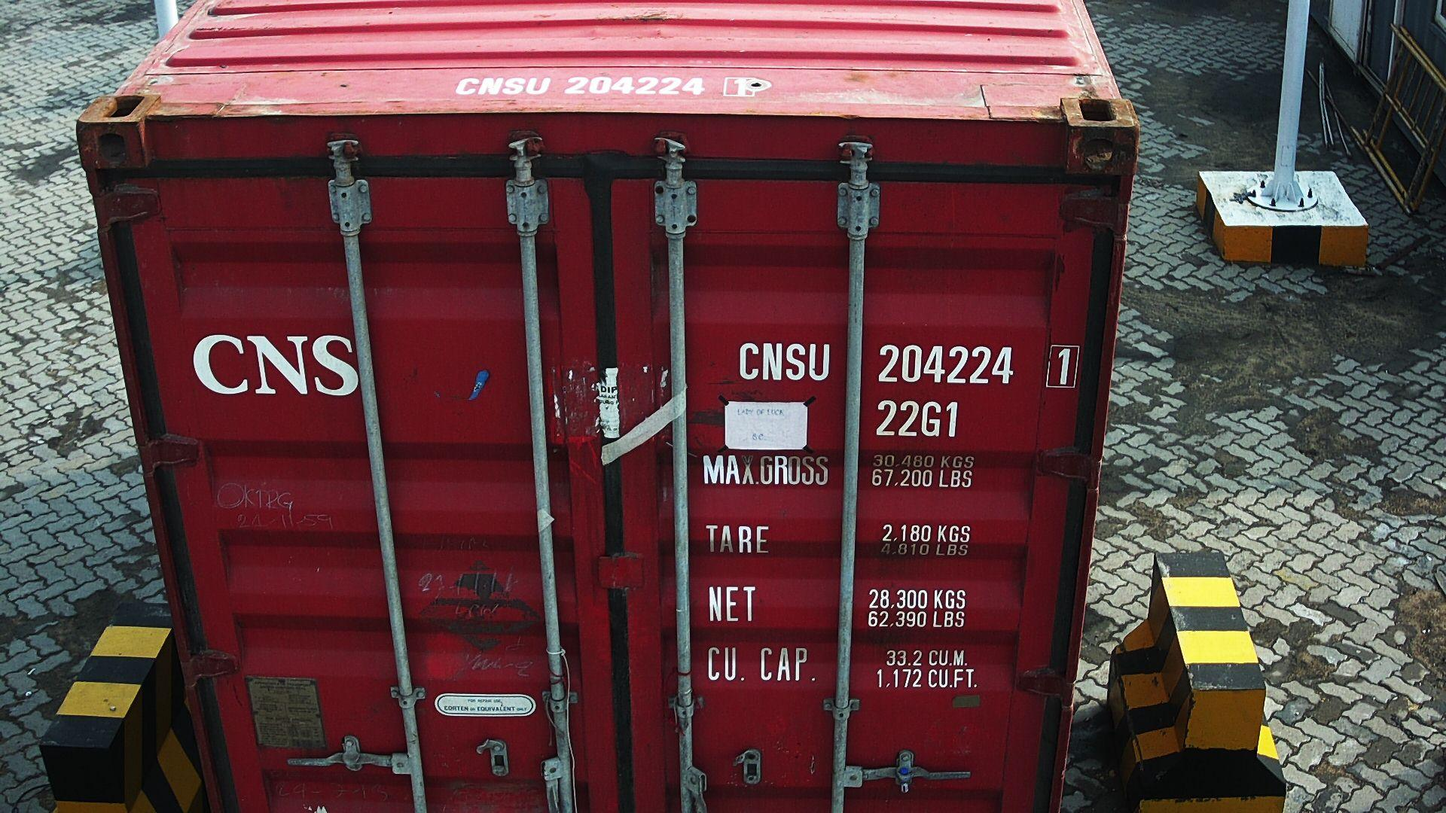container-numbers: (735, 338, 1086, 390), (447, 72, 770, 98), (872, 396, 964, 440)
